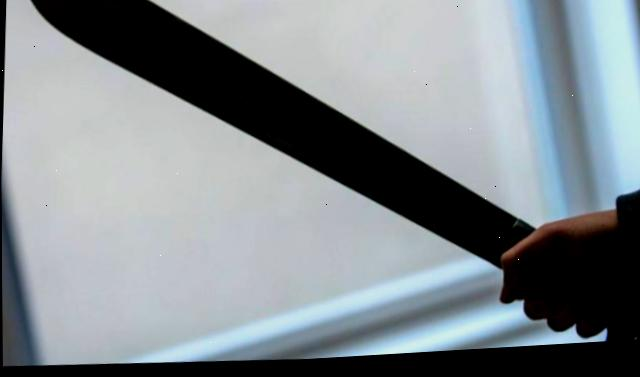long knife: (5, 0, 640, 377)
